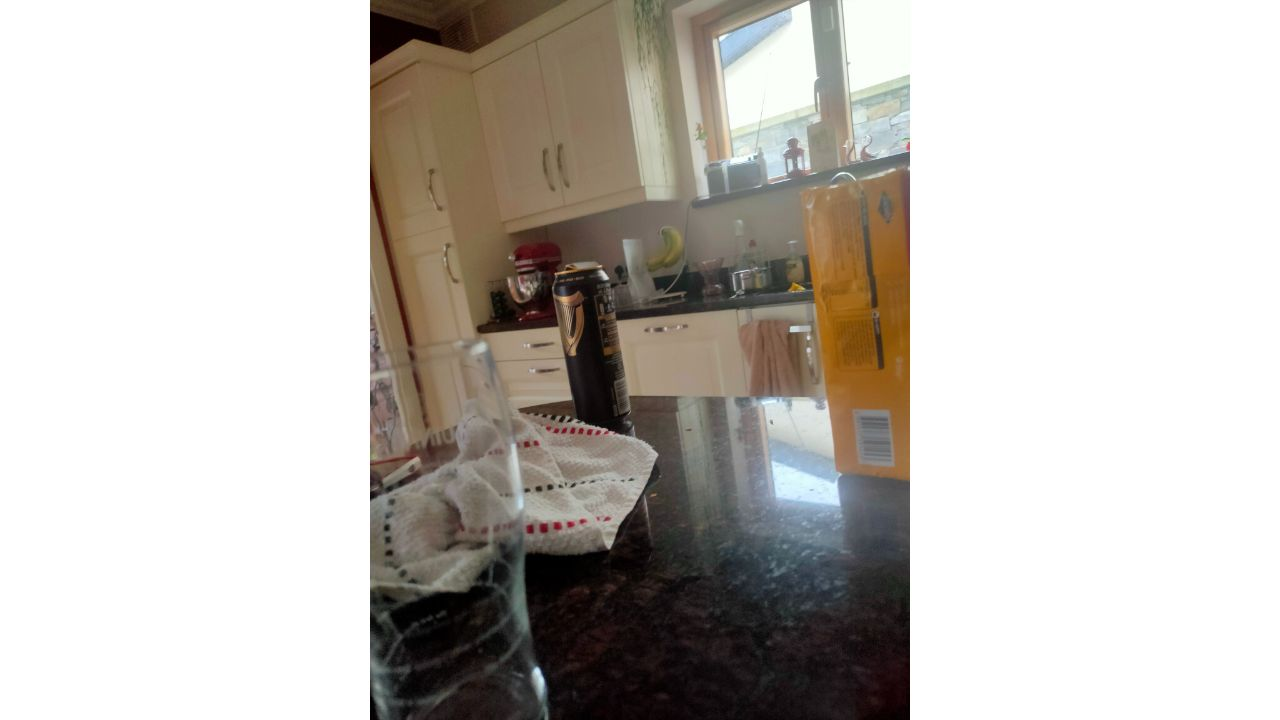Can: (539, 255, 639, 438)
